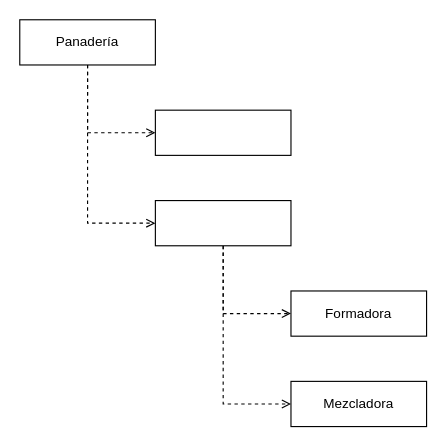
Some shapes in this 446 by 446 pixel diagram are drawn without their labels. The shapes that lost their labels are listed below. From the top down, each one's centre as x and y in pixels, then its label:
the point at 222,132: Horno
the point at 222,222: Amasadora
